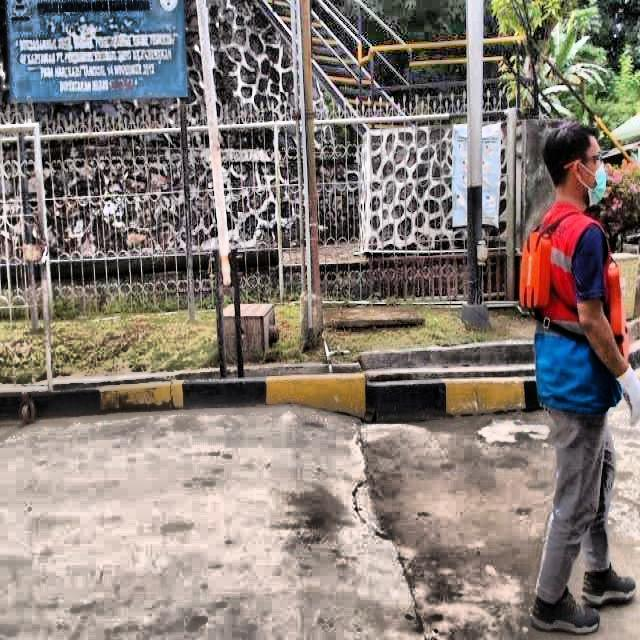safety_jacket: (518, 203, 630, 417)
